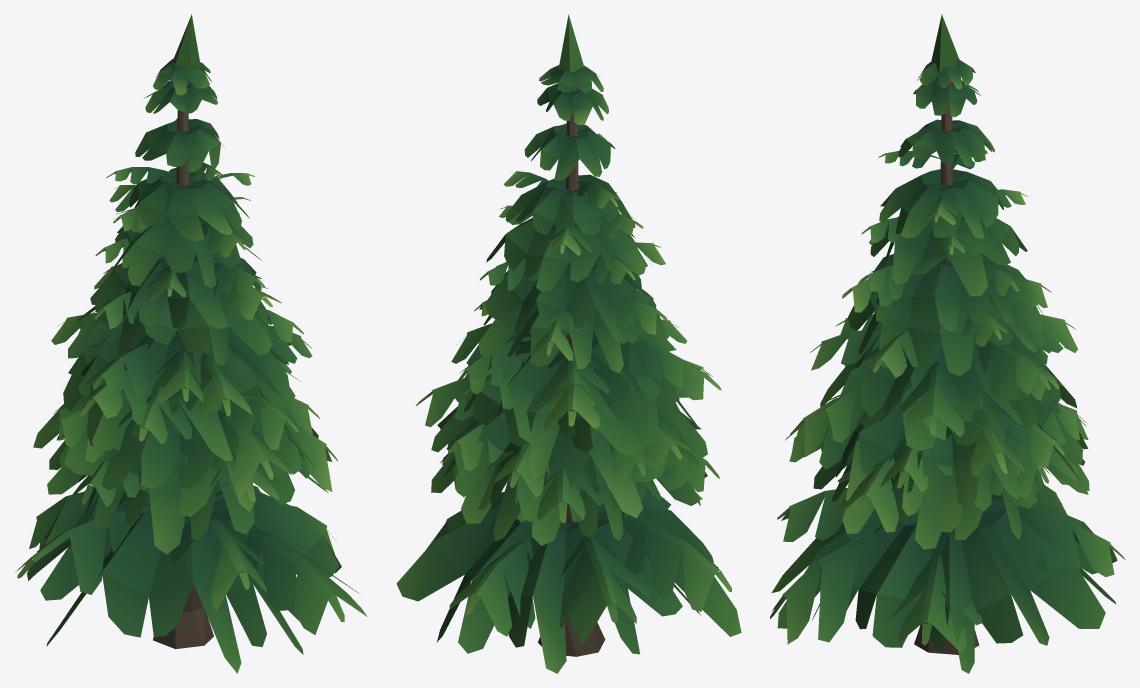
File: spruce_M_normal_std_irregular_s25.glb
3 views of the same model, side by side, from view 1: azimuth 30°, elevation 25°; view 2: azimuth 150°, elevation 25°; view 3: azimuth 270°, elevation 25° (orthographic).
Visible parts, largest first — view 1: Tree; view 2: Tree; view 3: Tree.
Boxes of the visible parts, left/top/right/bottom form: Tree: left=16, top=14, right=367, bottom=673; Tree: left=396, top=14, right=741, bottom=673; Tree: left=770, top=14, right=1125, bottom=673.
Size of what is drawn, in the model's own units: 3.11 by 5.94 by 3.04.
